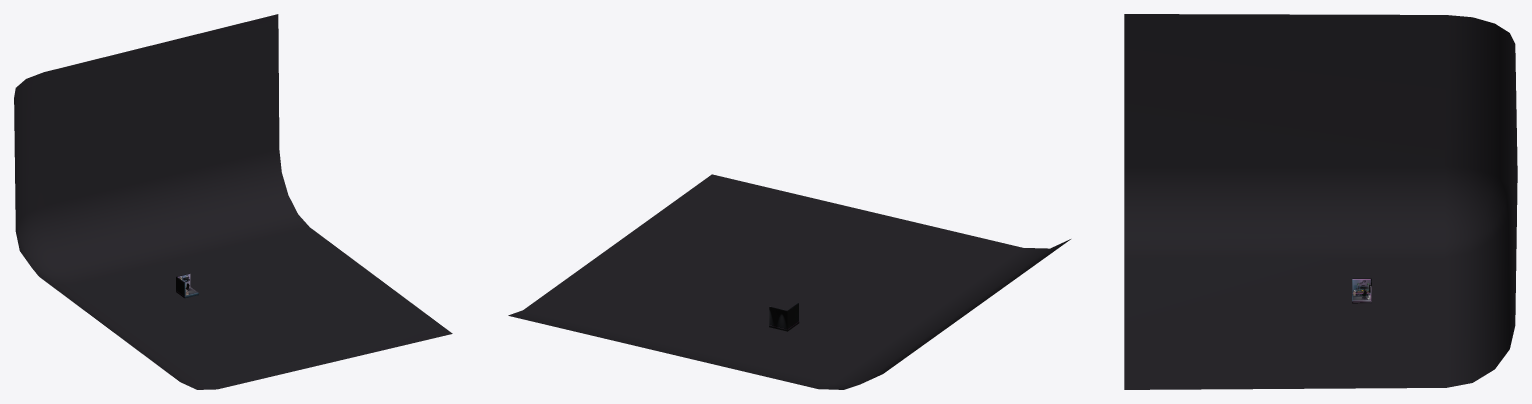
Rendered from room_portfolio.glb.
3 renders of one model, left to right at view 1: azimuth 30°, elevation 25°; view 2: azimuth 150°, elevation 25°; view 3: azimuth 270°, elevation 25°, orthographic. The views are drawn at different scales.
Visible parts, largest first — view 1: Background; view 2: Background, Wall; view 3: Background, Wall.
Part boxes in pixels (x1,y1,x2,y2): Background: [14, 14, 452, 389]; Background: [508, 174, 1070, 389]; Wall: [769, 303, 799, 331]; Background: [1124, 14, 1517, 389]; Wall: [1352, 278, 1371, 303].
Size of the model in its own units: 632 by 400 by 658.
Materials: 25 (24 with a texture image).
